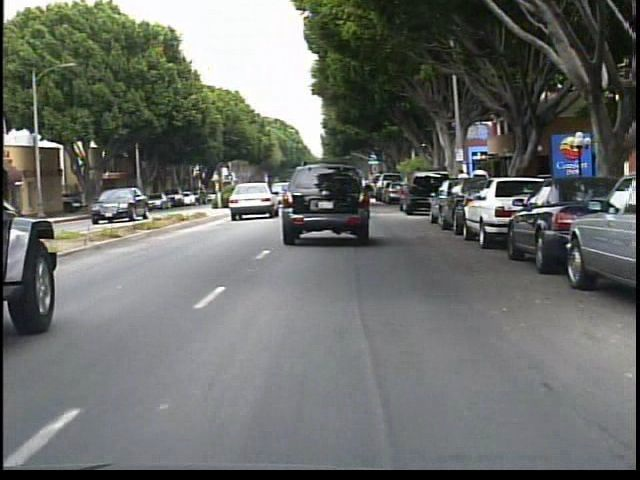person: (472, 164, 490, 206), (454, 166, 471, 203), (103, 188, 119, 215)
